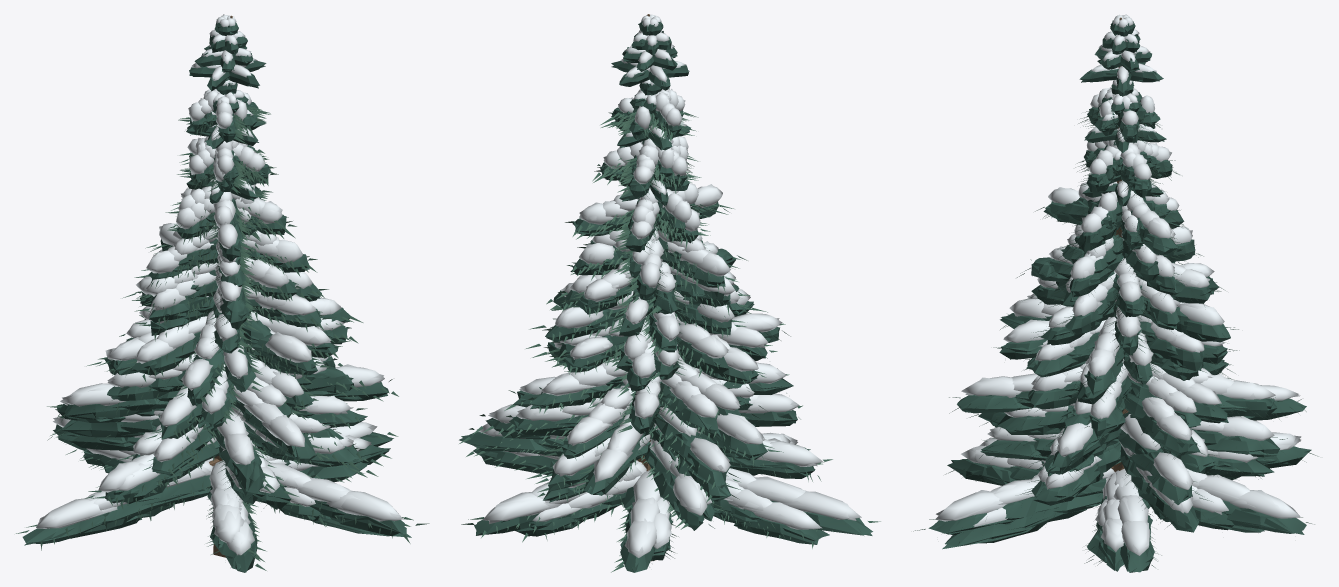
File: snow-firs.glb
3 renders of one model, left to right at view 1: azimuth 30°, elevation 25°; view 2: azimuth 150°, elevation 25°; view 3: azimuth 270°, elevation 25°, orthographic.
Parts seen in each view (by area): view 1: Fir_2_1, Fir_1_1, Fir_0_1, Fir_1_2, Fir_2_2, Fir_0_2, Fir_1_1.001, Fir_1_2.001, Fir_0_1.001, Fir_2_2.001, Fir_2_1.001, Fir_0_2.001; view 2: Fir_1_2, Fir_0_1, Fir_1_1, Fir_2_1, Fir_0_2, Fir_2_2, Fir_1_2.001, Fir_0_1.001, Fir_2_1.001, Fir_0_2.001, Fir_1_1.001, Fir_2_2.001; view 3: Fir_1_1, Fir_0_1, Fir_2_1, Fir_1_2, Fir_2_2, Fir_0_2, Fir_1_1.001, Fir_0_1.001, Fir_2_1.001, Fir_1_2.001, Fir_2_2.001, Fir_0_2.001.
Boxes of the visible parts, x1,y1,x2,y2 form: Fir_2_1: (53, 22, 391, 557); Fir_1_1: (16, 155, 429, 550); Fir_0_1: (47, 82, 410, 572); Fir_1_2: (36, 153, 402, 528); Fir_2_2: (86, 15, 371, 542); Fir_0_2: (62, 80, 384, 555); Fir_1_1.001: (24, 155, 403, 545); Fir_1_2.001: (37, 187, 399, 528); Fir_0_1.001: (61, 88, 411, 572); Fir_2_2.001: (128, 14, 371, 539); Fir_2_1.001: (62, 19, 390, 558); Fir_0_2.001: (62, 90, 383, 555); Fir_1_2: (483, 179, 861, 557); Fir_0_1: (459, 82, 832, 560); Fir_1_1: (461, 138, 880, 572); Fir_2_1: (472, 21, 793, 560); Fir_0_2: (477, 79, 822, 529); Fir_2_2: (488, 14, 790, 548); Fir_1_2.001: (489, 180, 856, 555); Fir_0_1.001: (461, 83, 821, 550); Fir_2_1.001: (488, 23, 784, 560); Fir_0_2.001: (482, 93, 822, 529); Fir_1_1.001: (476, 179, 872, 572); Fir_2_2.001: (489, 15, 784, 547); Fir_1_1: (913, 140, 1318, 572); Fir_0_1: (942, 81, 1282, 563); Fir_2_1: (960, 21, 1287, 570); Fir_1_2: (935, 151, 1300, 555); Fir_2_2: (979, 15, 1274, 549); Fir_0_2: (961, 80, 1275, 527); Fir_1_1.001: (928, 165, 1311, 572); Fir_0_1.001: (942, 92, 1274, 562); Fir_2_1.001: (990, 20, 1278, 571); Fir_1_2.001: (936, 180, 1301, 552); Fir_2_2.001: (980, 14, 1267, 551); Fir_0_2.001: (965, 82, 1258, 525).
Bounding box in the file's own units: 8.19 × 10.91 × 7.55.
